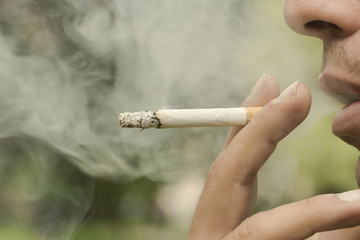cigarette: (116, 106, 273, 132)
